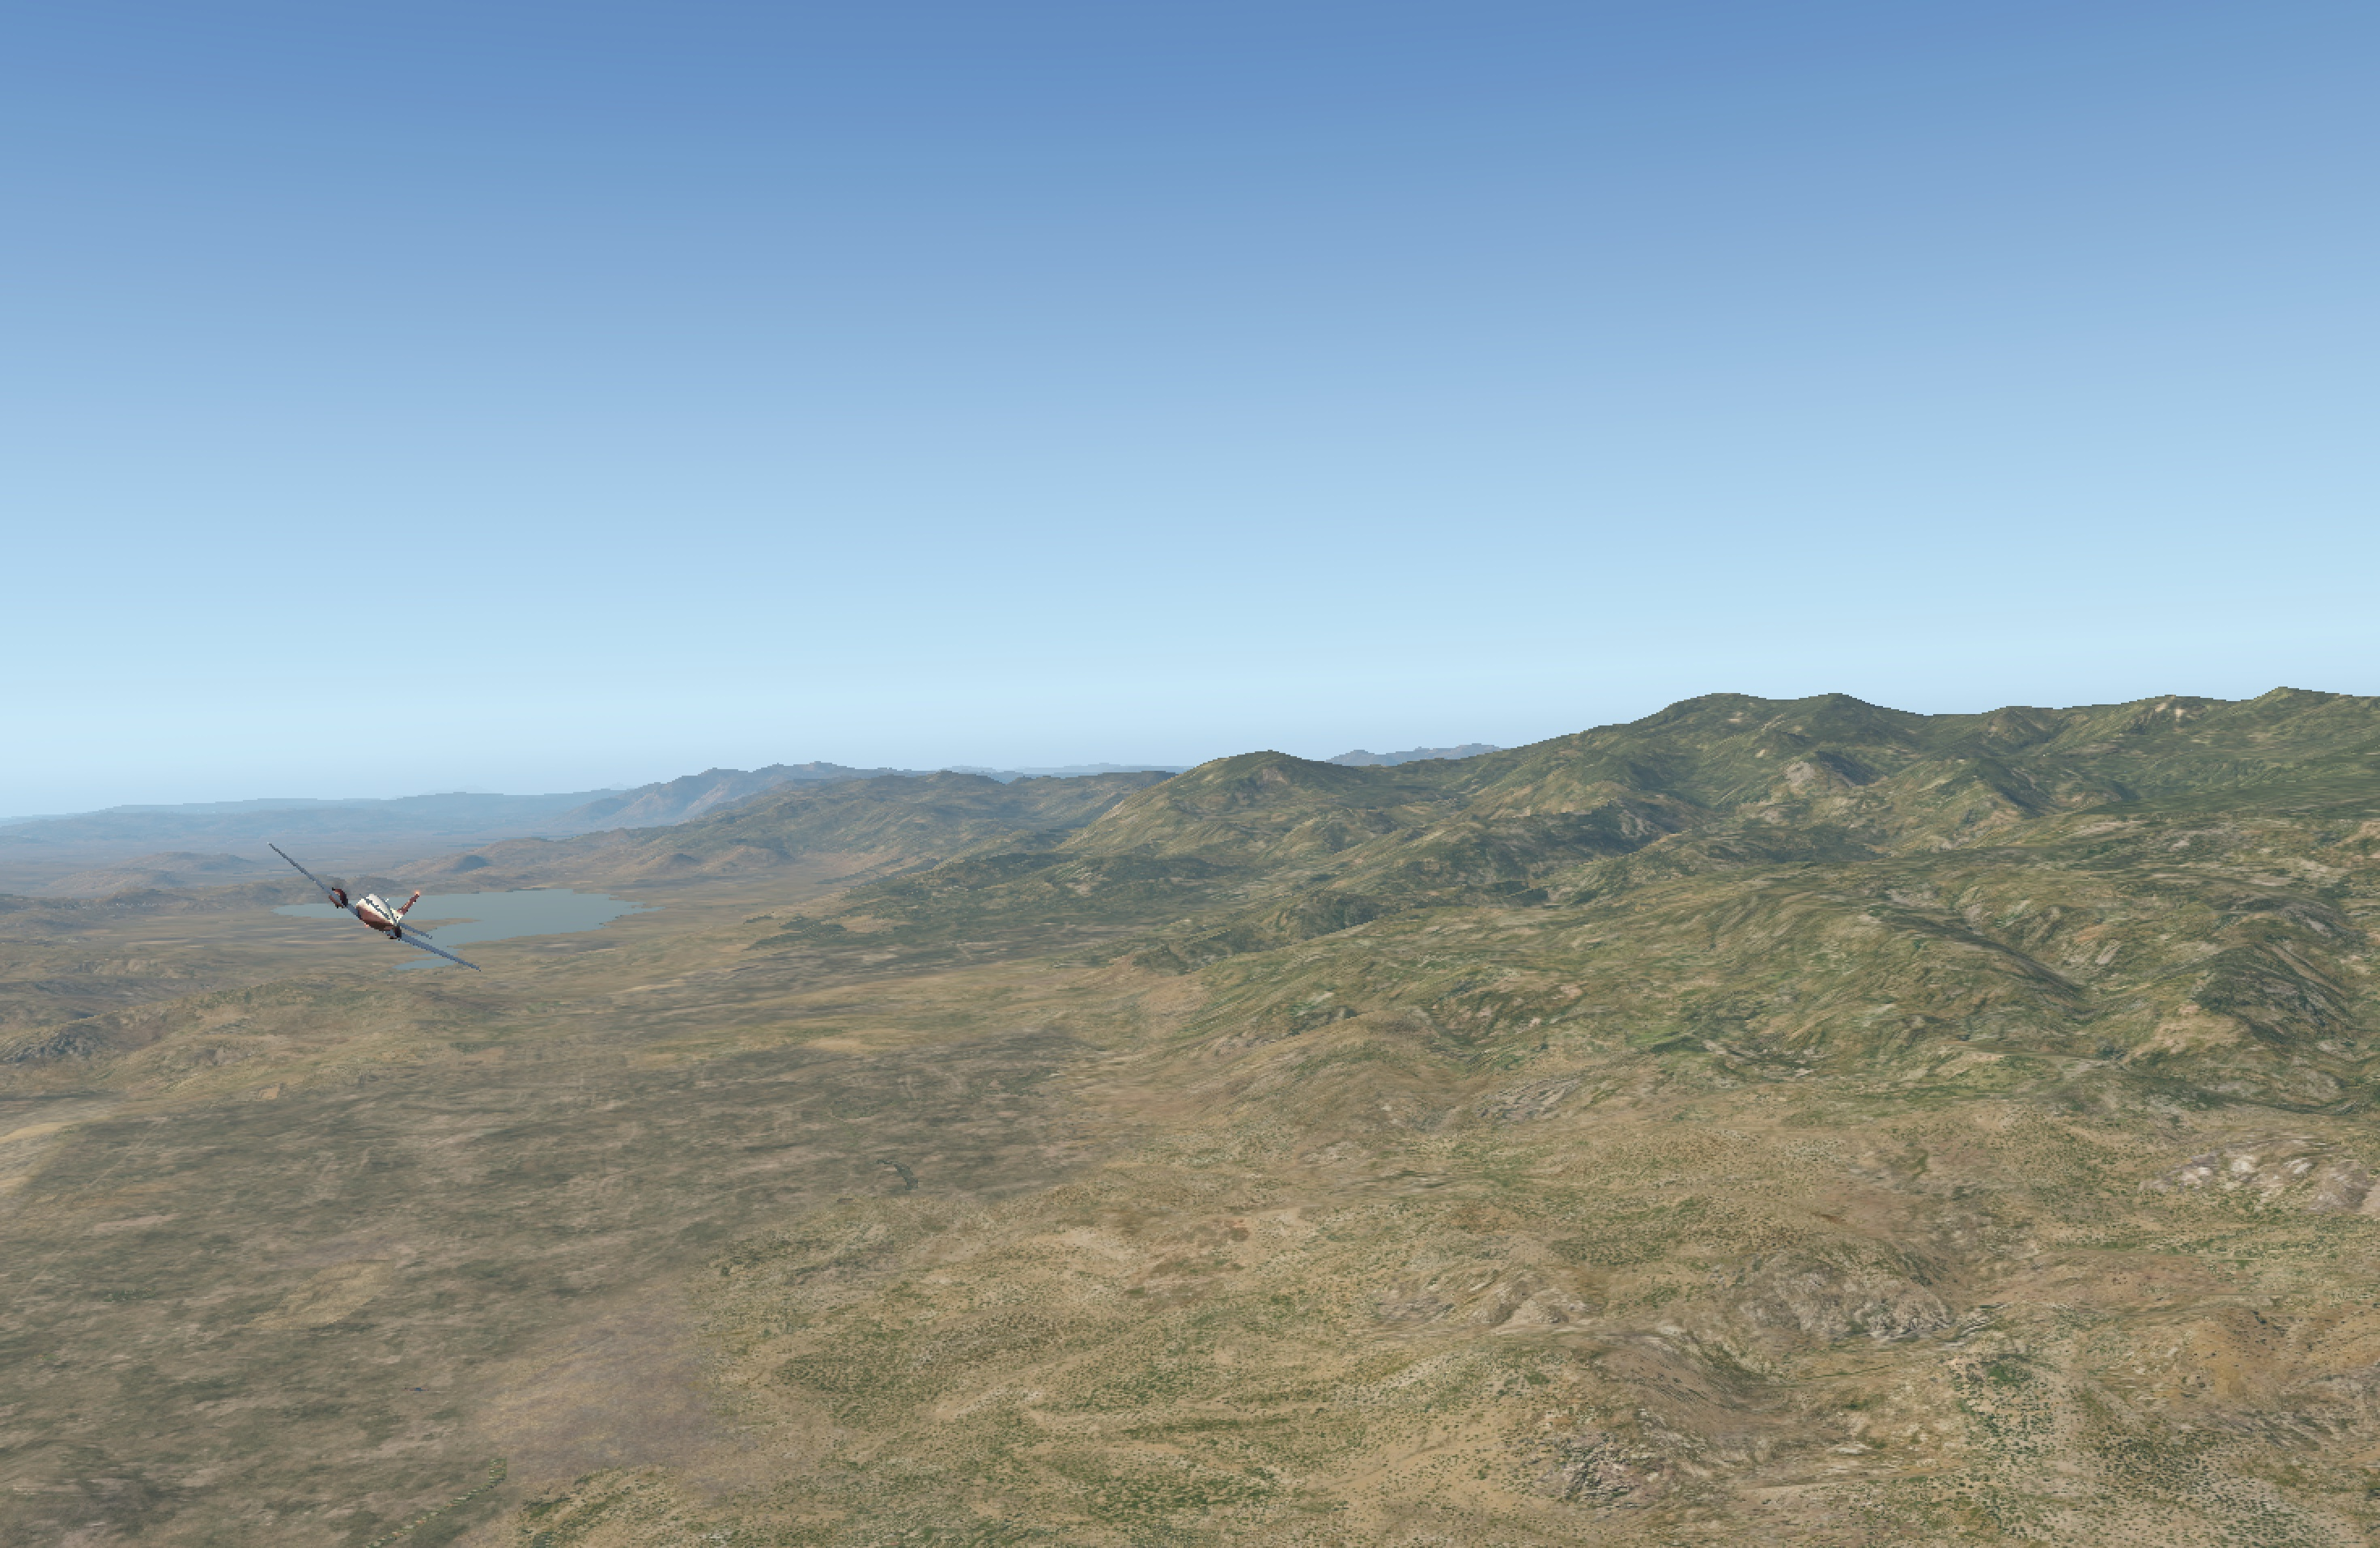aircraft: (252, 876, 481, 963)
